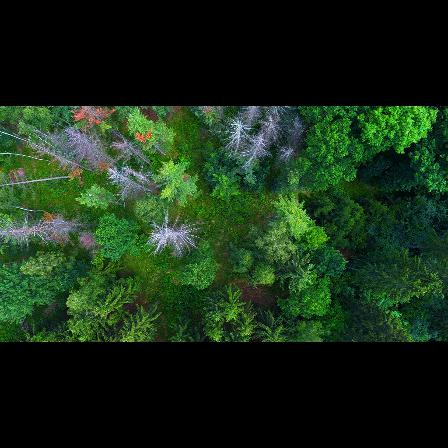Dead: (15, 138, 94, 172), (144, 217, 205, 258), (103, 171, 155, 198), (67, 130, 112, 161), (107, 134, 150, 165), (1, 224, 56, 239), (48, 215, 96, 231), (226, 117, 246, 147), (246, 134, 267, 162), (261, 117, 281, 140), (122, 168, 153, 182), (241, 107, 263, 126), (264, 106, 287, 124), (275, 143, 293, 161)
